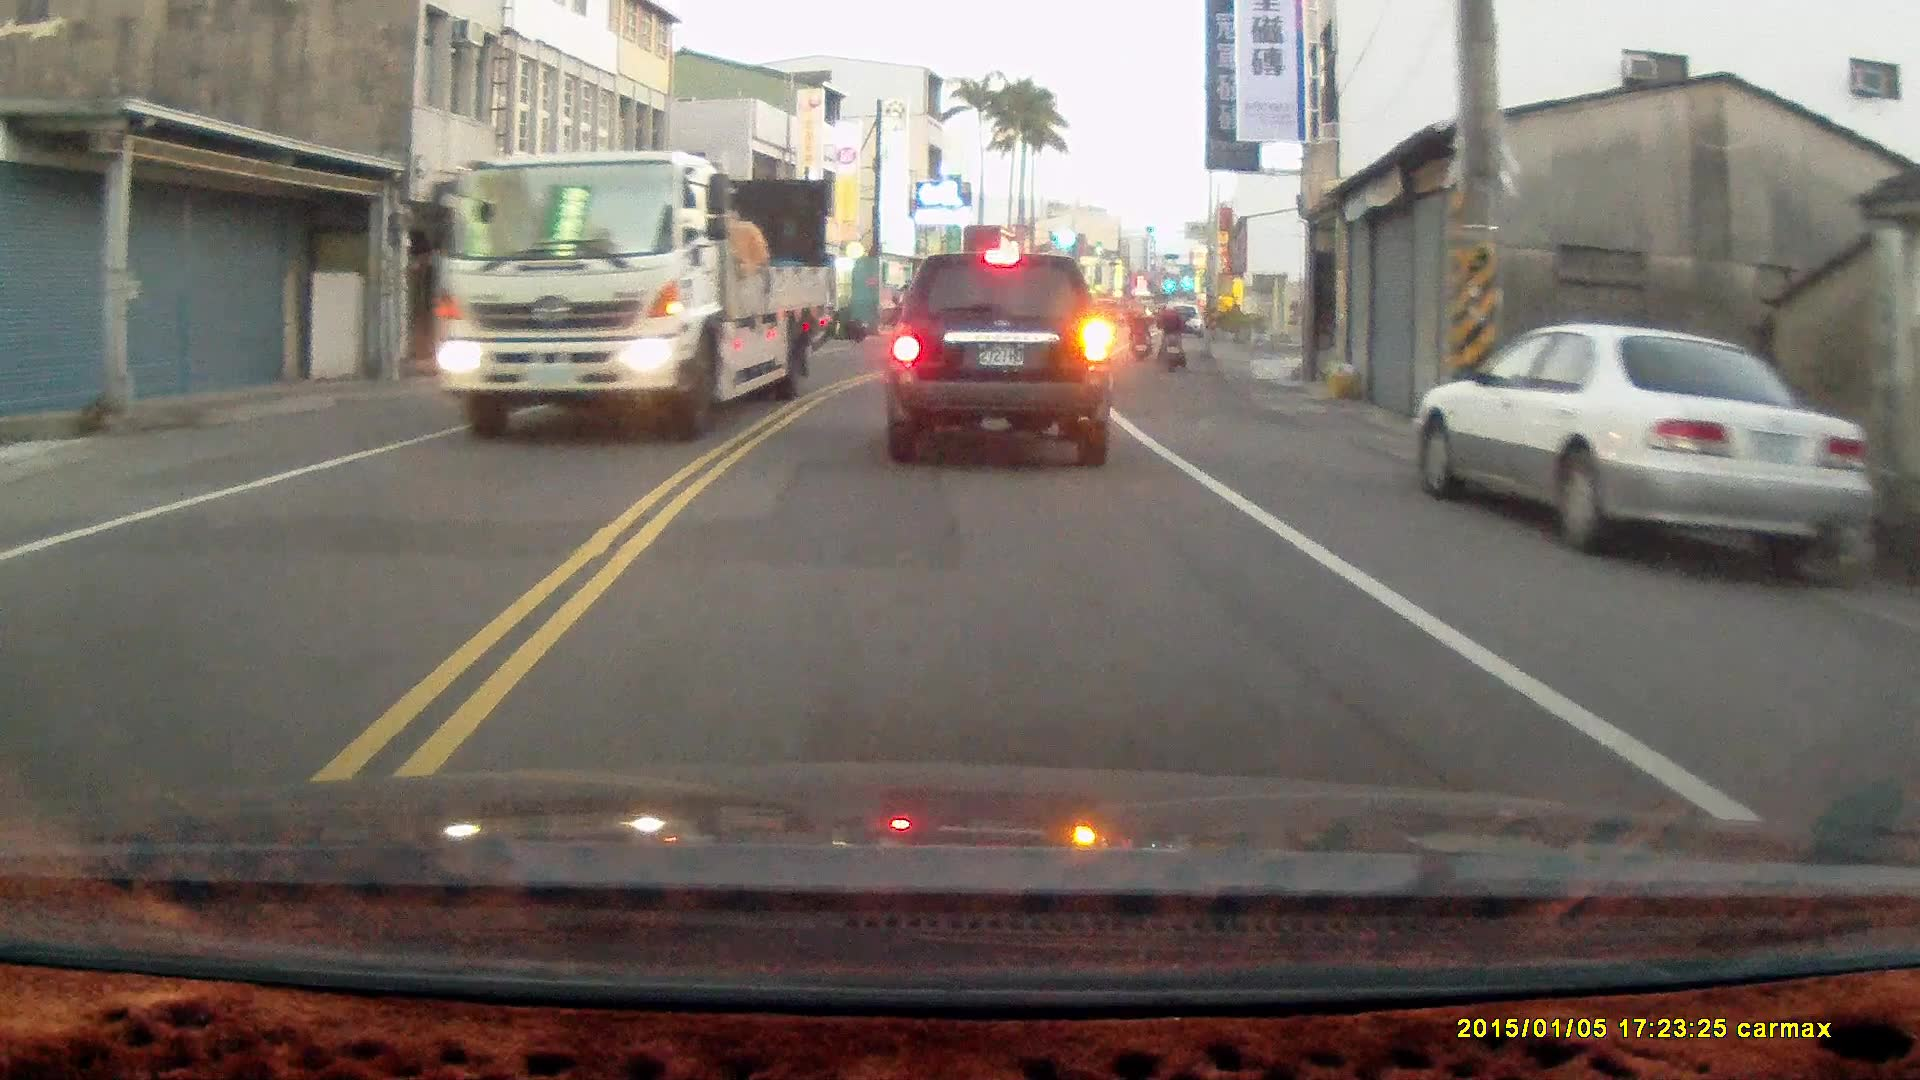rider: (1155, 294, 1186, 373), (1124, 298, 1148, 358)
vehicle: (1415, 319, 1871, 579), (430, 154, 834, 429), (886, 247, 1117, 463)
